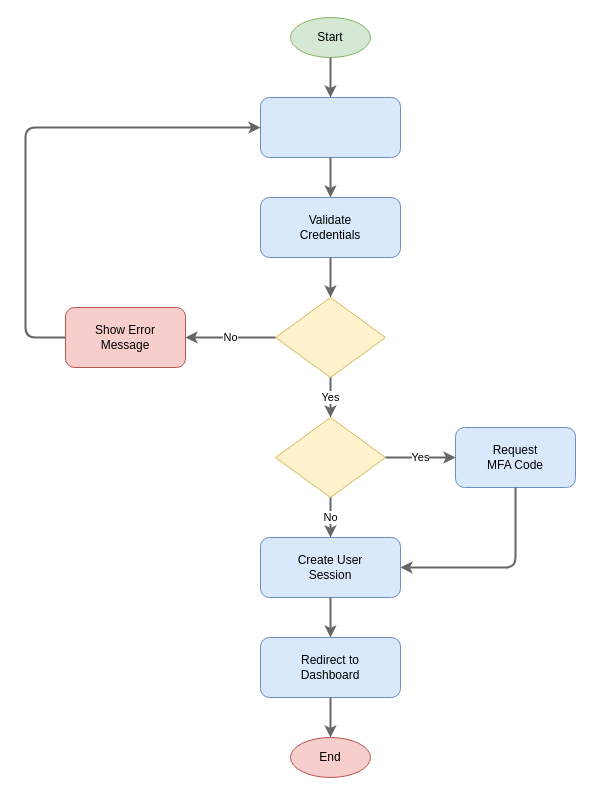
This 593x795 diagram has some shape labels left out. The box of each missing label's shape, as (x1, y1, x2, y2) in pixels:
MFA Enabled?: (274, 416, 386, 498)
User Enters Credentials: (260, 96, 400, 158)
Valid?: (274, 296, 386, 378)
